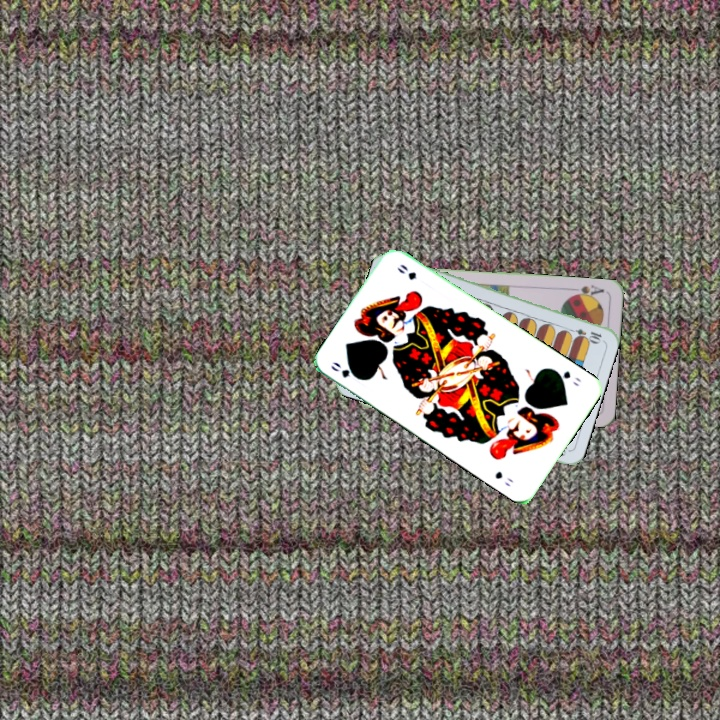E10: (564, 324, 604, 344)
GO: (327, 358, 365, 383), (550, 365, 584, 389)
SA: (567, 281, 607, 301)
